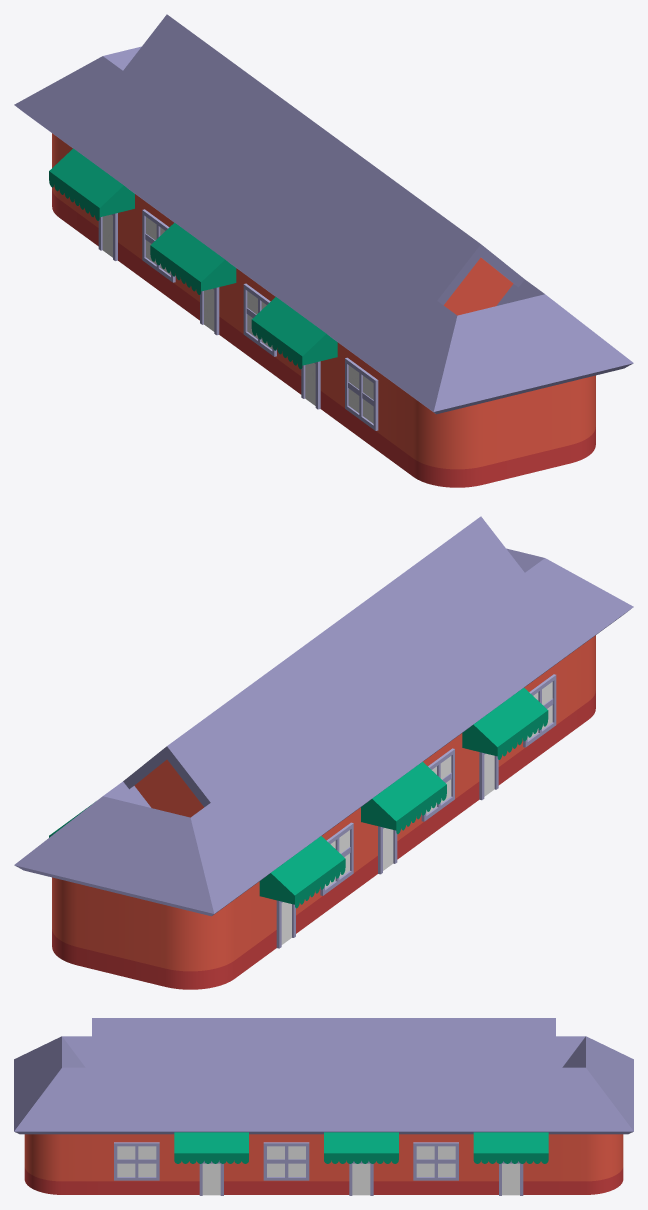
Rendered from StoreStrip.glb.
The picture shows the model from 3 angles, top to bottom: view 1: azimuth 30°, elevation 25°; view 2: azimuth 150°, elevation 25°; view 3: azimuth 270°, elevation 25°; orthographic projection. The views are drawn at different scales.
Parts seen in each view (by area): view 1: mergedBlocks(Clone); view 2: mergedBlocks(Clone); view 3: mergedBlocks(Clone).
Boxes of the visible parts, left/top/right/bottom form: mergedBlocks(Clone): left=14, top=14, right=633, bottom=487; mergedBlocks(Clone): left=14, top=516, right=633, bottom=989; mergedBlocks(Clone): left=14, top=1018, right=633, bottom=1195.
Bounding box in the file's own units: 2.8 × 2.14 × 8.28.
